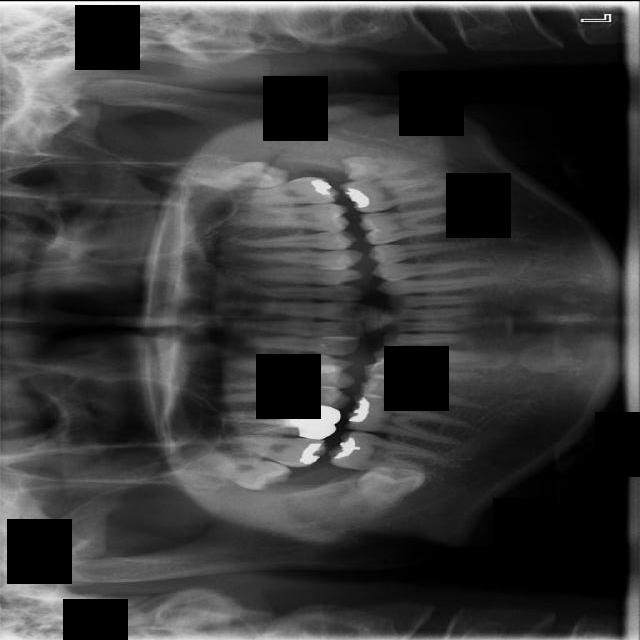3M ESPE Implant: (165, 442, 295, 495)
52: (323, 417, 381, 478), (274, 425, 331, 481), (337, 167, 390, 223), (347, 391, 392, 433), (296, 404, 341, 439), (290, 175, 340, 204)
73: (211, 407, 306, 436), (584, 40, 598, 44)
BioHorizons Implant: (225, 174, 339, 207)
BioLife Implant: (164, 157, 289, 196)
Biomet 3i Implant: (338, 155, 420, 182)
Blue Sky Bio Implant: (337, 169, 439, 216)
Caries: (211, 433, 330, 468)
Implant: (326, 426, 444, 479)
Keystone Dental Implant: (341, 460, 426, 511)
